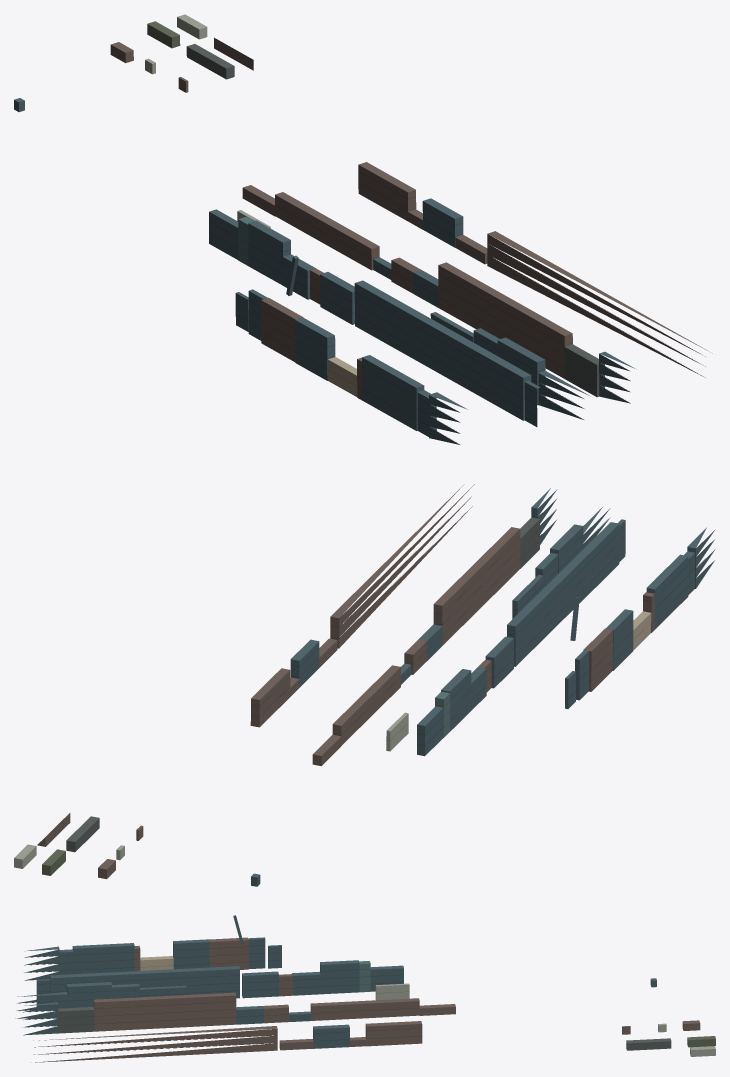
File: terminal-29---122_-17.glb
3 views of the same model, one above another, from view 1: azimuth 30°, elevation 25°; view 2: azimuth 150°, elevation 25°; view 3: azimuth 270°, elevation 25° (orthographic). The views are drawn at different scales.
Parts seen in each view (by area): view 1: measured-industrial; view 2: measured-industrial; view 3: measured-industrial.
Boxes of the visible parts, x1,y1,x2,y2 form: measured-industrial: [14, 14, 712, 444]; measured-industrial: [14, 484, 715, 886]; measured-industrial: [15, 915, 715, 1062].
Size of the model in its own units: 82.26 by 23.64 by 251.
